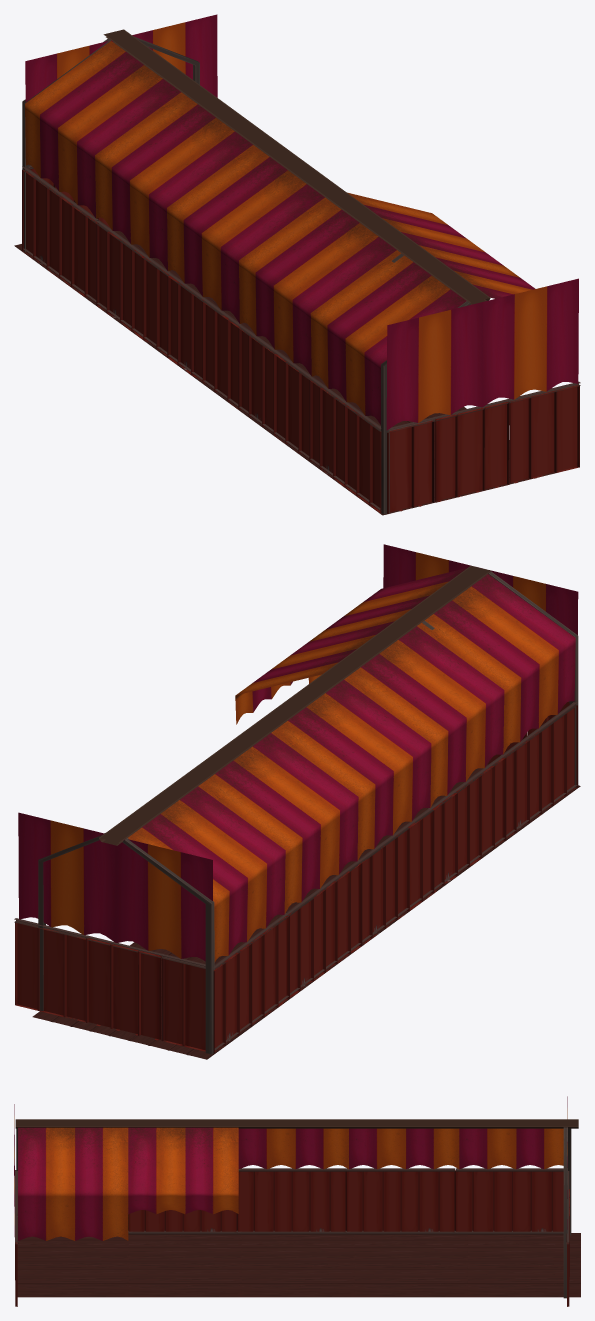
Rendered from 1_5_SHELL.fbx.
3 renders of one model, top to bottom at view 1: azimuth 30°, elevation 25°; view 2: azimuth 150°, elevation 25°; view 3: azimuth 270°, elevation 25°, orthographic. The views are drawn at different scales.
Visible parts, largest first — view 1: Tarp_Piece_Long6, Tarp_Piece_Long5, Tarp_Piece_Long7, Tarp_Piece_Long8, Tarp_Piece_Long, Tarp_Piece_Long12, Tarp_Piece_Long11, FoldDown_Door2, Wall_Piece1, Wall_Piece9, Wall_Piece11, Wall_Piece8 (+10 smaller); view 2: Tarp_Piece_Long7, Tarp_Piece_Long5, Tarp_Piece_Long6, Tarp_Piece_Long, Tarp_Piece_Long8, Tarp_Piece_Long9, Tarp_Piece_Long4, FoldDown_Door1, Wall_Piece9, Wall_Piece6, Wall_Piece8, Wall_Piece7 (+13 smaller); view 3: Tarp_Piece_Long13, Tarp_Piece_Long14, Floor1, Floor2, Floor3, Floor4, Wall_Piece8, Floor, Wall_Piece7, Wall_Piece9, Tarp_Piece_Long7, Tarp_Piece_Long6 (+13 smaller).
Part boxes in pixels (box(x1,y1,x2,y2)): Tarp_Piece_Long6: box(167, 145, 324, 323); Tarp_Piece_Long5: box(239, 197, 396, 375); Tarp_Piece_Long7: box(95, 92, 252, 270); Tarp_Piece_Long8: box(25, 41, 180, 217); Tarp_Piece_Long: box(310, 250, 466, 424); Tarp_Piece_Long12: box(482, 278, 578, 406); Tarp_Piece_Long11: box(386, 302, 482, 430); FoldDown_Door2: box(435, 402, 509, 502); Wall_Piece1: box(309, 380, 381, 513); Wall_Piece9: box(22, 170, 98, 302); Wall_Piece11: box(509, 385, 579, 483); Wall_Piece8: box(96, 224, 168, 355); Tarp_Piece_Long7: box(198, 733, 358, 913); Tarp_Piece_Long5: box(344, 626, 504, 807); Tarp_Piece_Long6: box(271, 680, 431, 860); Tarp_Piece_Long: box(417, 574, 575, 753); Tarp_Piece_Long8: box(128, 786, 285, 962); Tarp_Piece_Long9: box(18, 812, 116, 942); Tarp_Piece_Long4: box(115, 839, 212, 961); FoldDown_Door1: box(86, 938, 161, 1040); Wall_Piece9: box(213, 916, 289, 1053); Wall_Piece6: box(432, 757, 505, 892); Wall_Piece8: box(288, 863, 361, 998); Wall_Piece7: box(361, 811, 433, 945); Tarp_Piece_Long13: box(18, 1127, 128, 1240); Tarp_Piece_Long14: box(128, 1127, 238, 1214); Floor1: box(128, 1234, 241, 1297); Floor2: box(241, 1234, 354, 1297); Floor3: box(354, 1234, 467, 1297); Floor4: box(468, 1233, 580, 1297); Wall_Piece8: box(346, 1171, 455, 1231); Floor: box(17, 1234, 128, 1297); Wall_Piece7: box(237, 1171, 346, 1231); Wall_Piece9: box(455, 1170, 563, 1231); Tarp_Piece_Long7: box(349, 1128, 459, 1169); Tarp_Piece_Long6: box(238, 1128, 348, 1169).
Bounding box in the file's own units: 363 × 335 × 1173.
